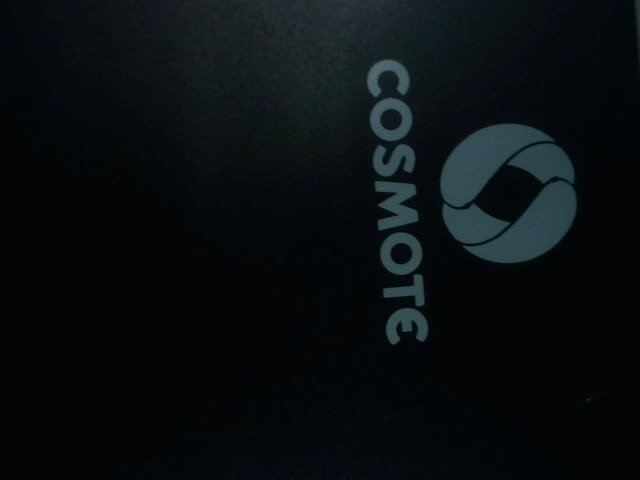AU_COSMOTE: (352, 49, 588, 347)
